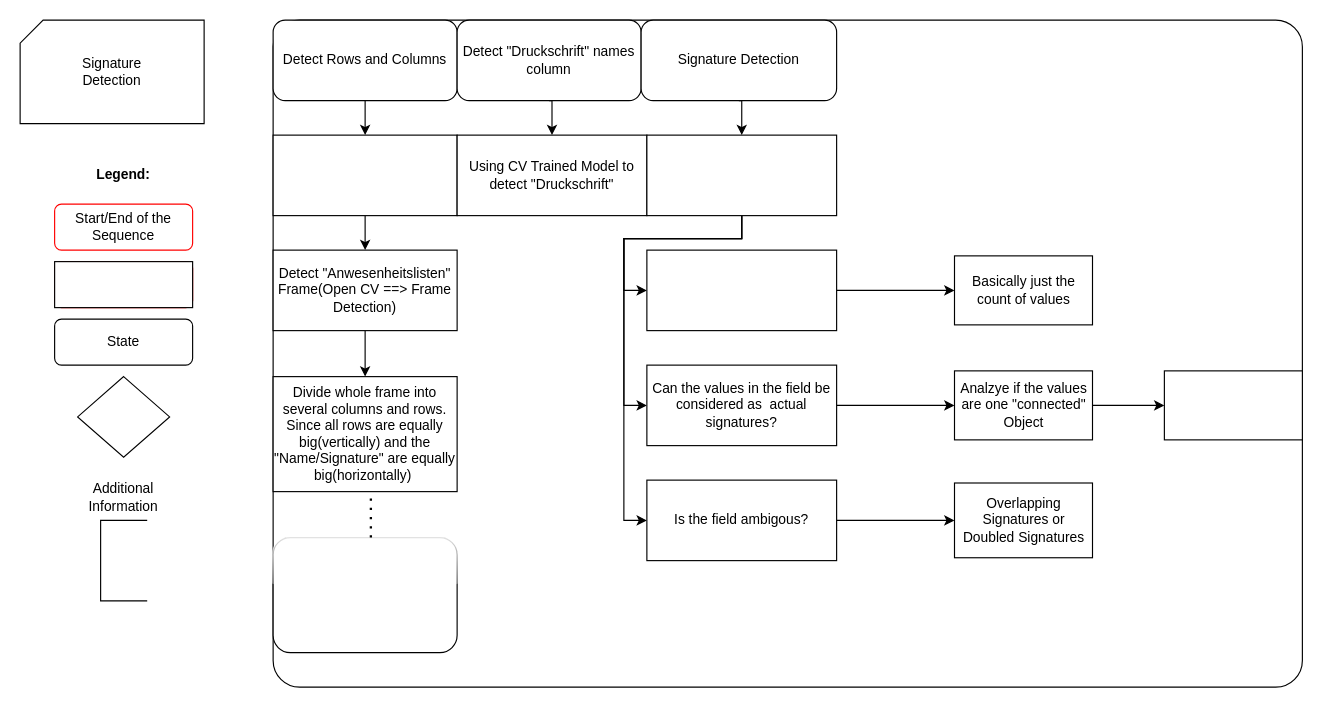
Some shapes in this 1323 by 707 pixel diagram are drawn without their labels. Each missing label, with the box of its shape:
Decisions: (76, 375, 170, 457)
Evaluate each Signature Column: (646, 134, 837, 216)
Is the field empty?: (646, 249, 837, 331)
Maybe "Morphologische Bildverarbeitung": (1163, 370, 1302, 440)
OpenCV has a method to detect each inner line.: (272, 536, 457, 653)
Processes/Actions: (53, 260, 193, 308)
Side Detection: (272, 134, 457, 216)
